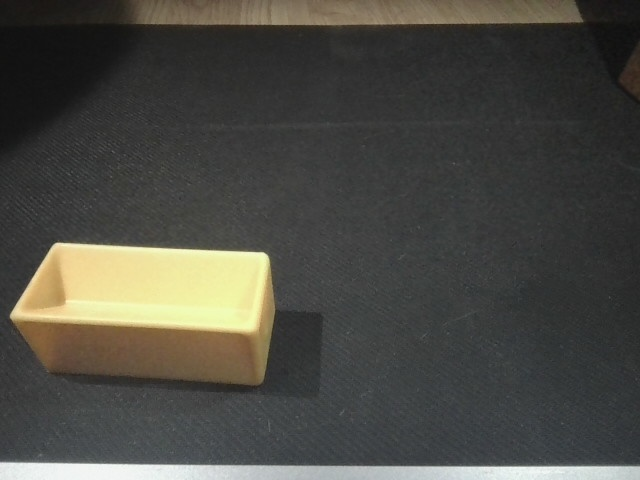YellowSample: (9, 240, 283, 397)
